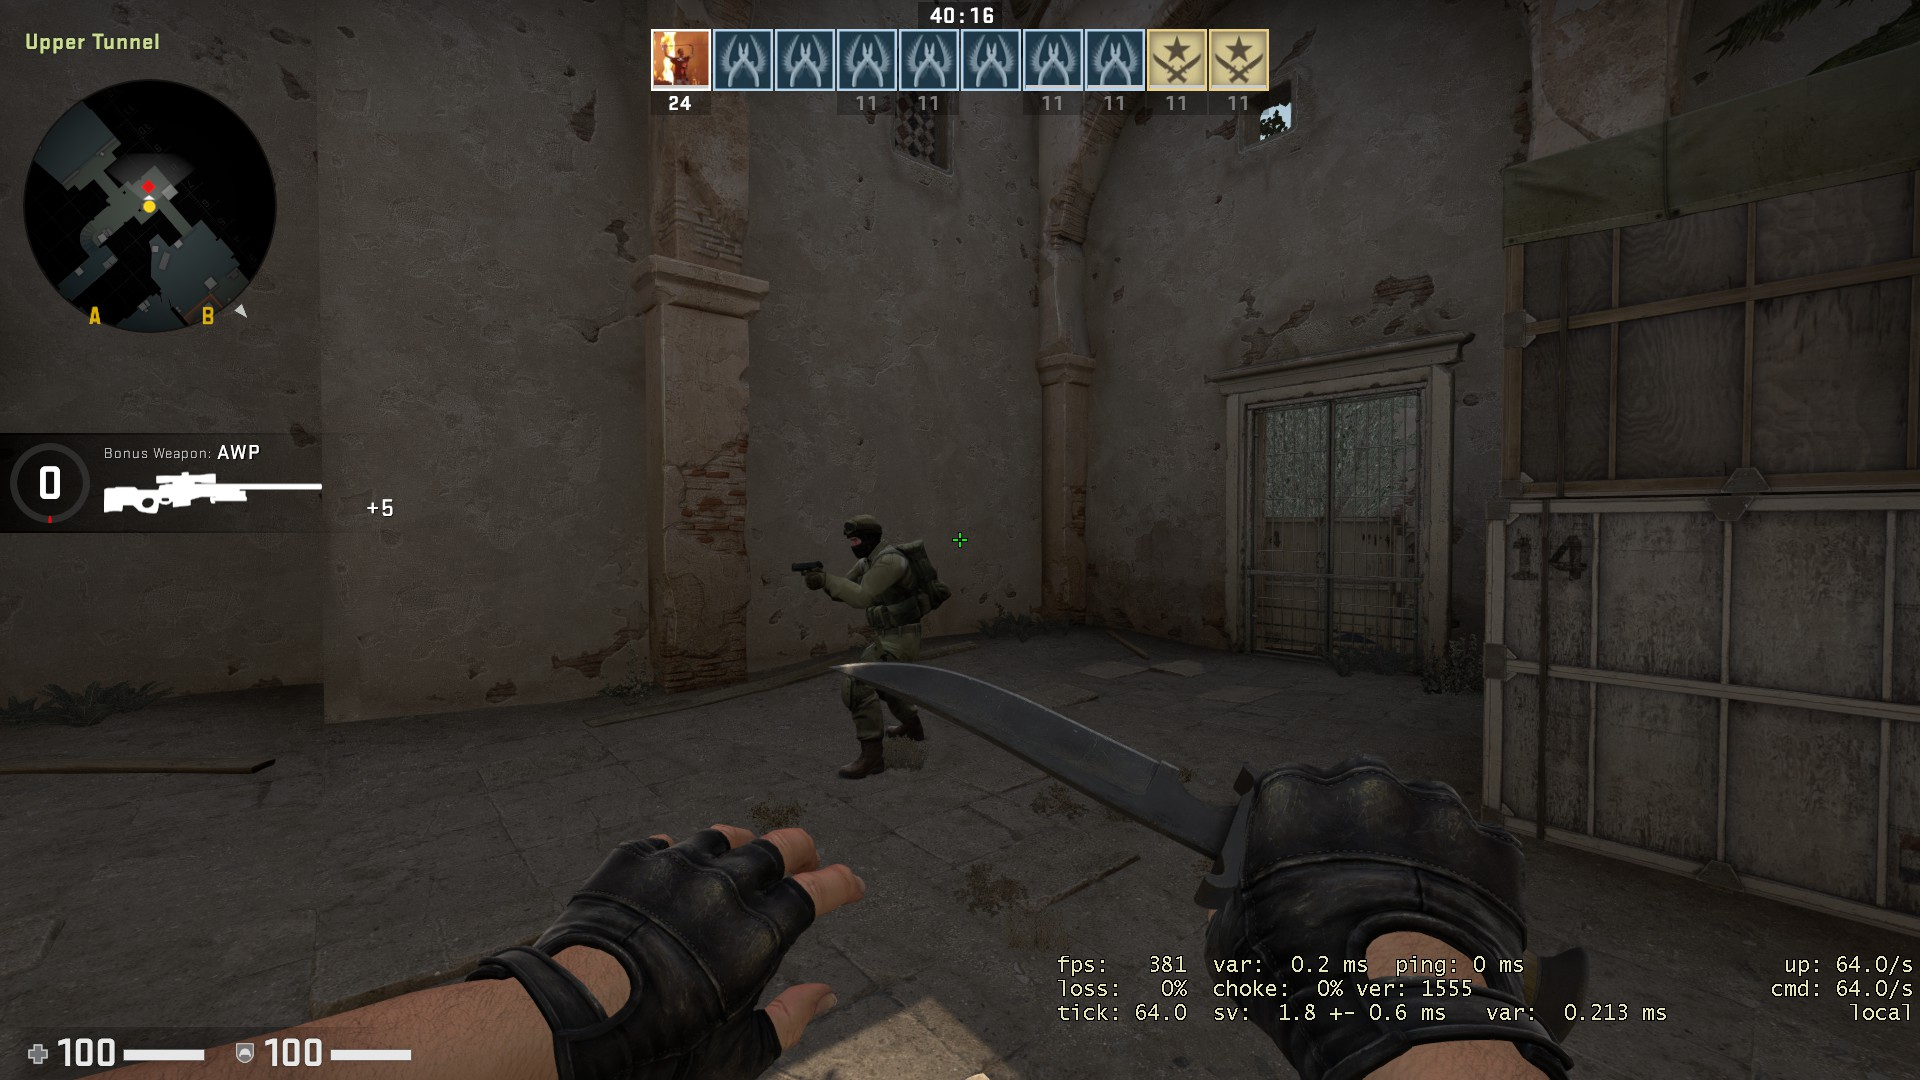player: (785, 512, 955, 785)
